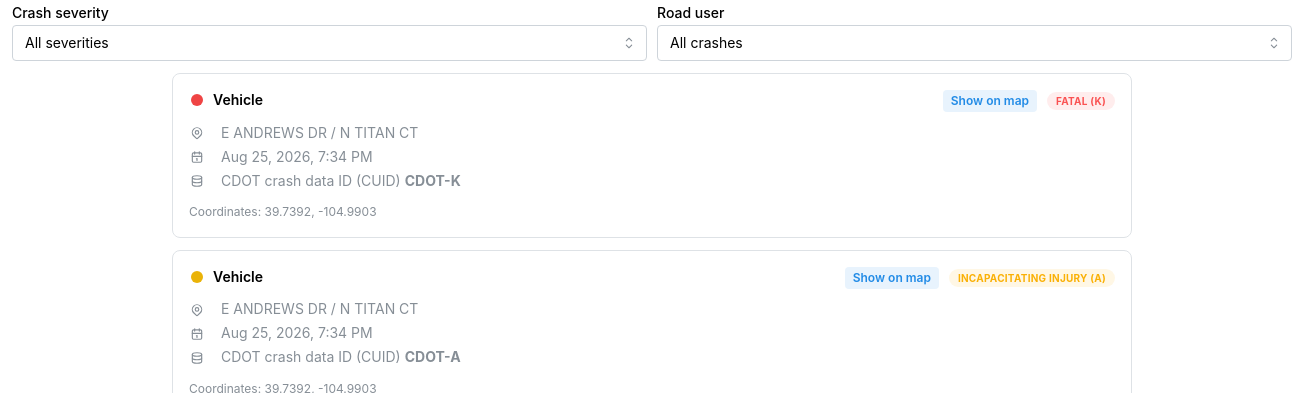
Test: CrashList filters › filters the list to Non-Incapacitating Injury (B) crashes
Click the field labelled "Crash severity" at (330, 43), box x1=12 y1=25 x2=647 y2=61
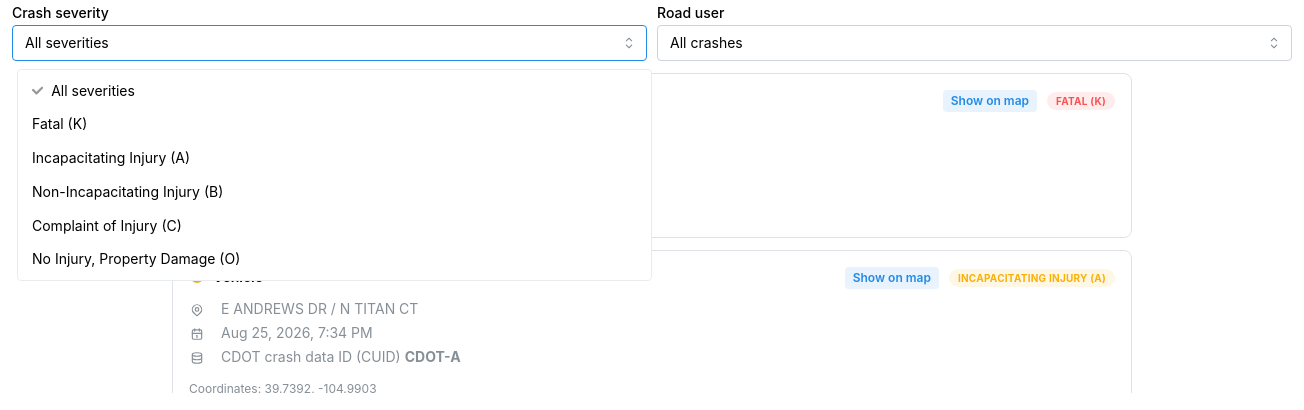
Click the option "Non-Incapacitating Injury (B)" at (128, 191), box x1=32 y1=183 x2=223 y2=200
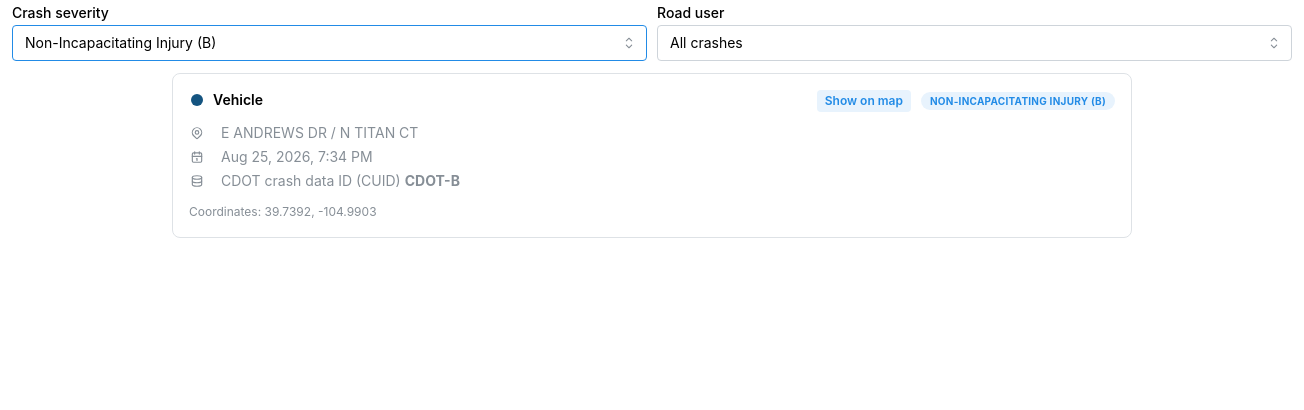
expect the text "CDOT-K" is gone: met
expect the text "CDOT-A" is gone: met
expect the text "CDOT-B" is shown: met, box x1=405 y1=172 x2=460 y2=189
